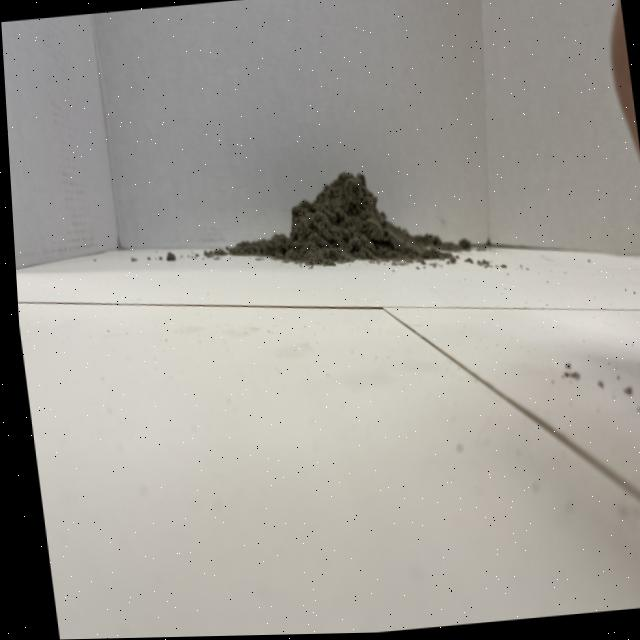sand: (232, 145, 453, 284)
